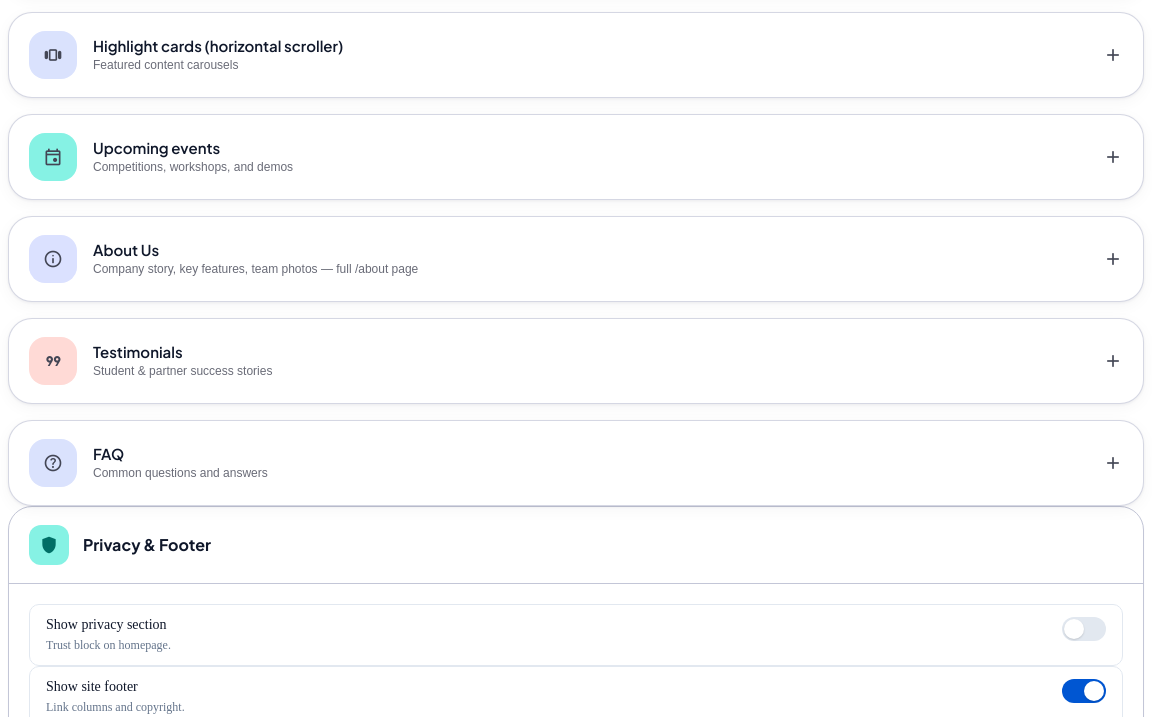
Scenario: HomepageEditorForm section controls › regression_testimonials_split_layout_and_character_hint
(page scrolled)
Click the button "Testimonials Student & partner success stories" at (53, 361), box [9,319,1143,403]
(page scrolled)
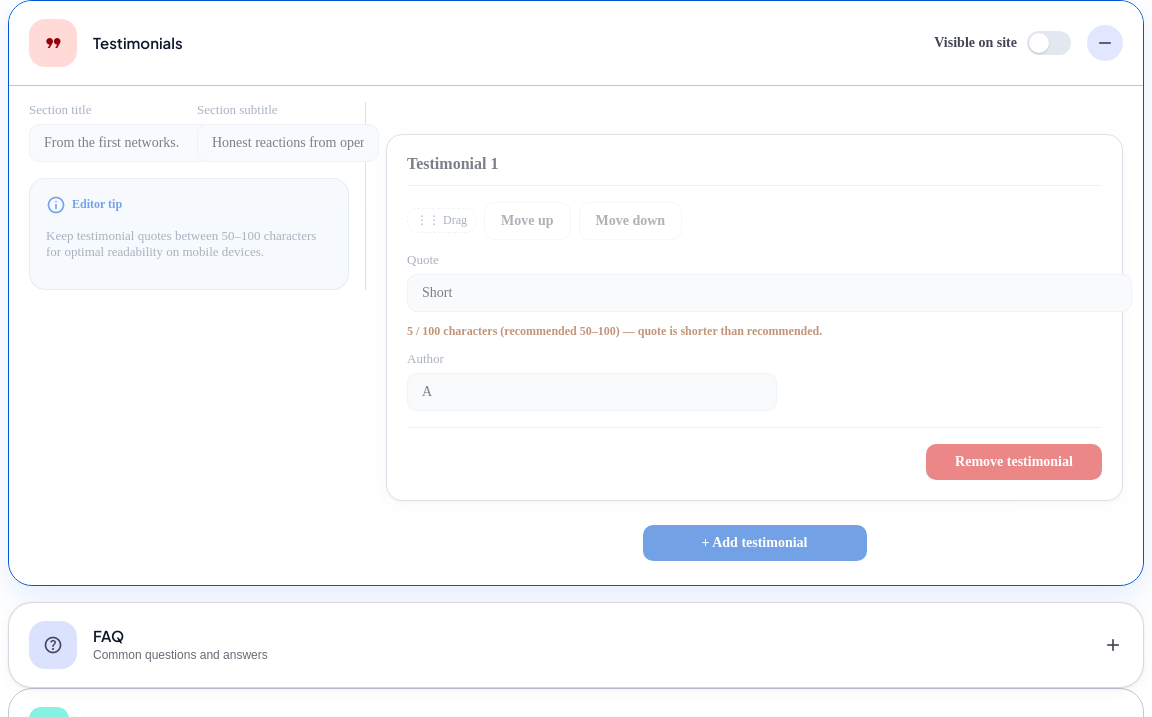
Expected: the element with class "ed-editor-accordion__split" is shown
Expected: the text "Editor tip" is shown, [46,193,122,217]
Expected: the text "5 / 100 characters" is shown, [407,324,620,338]
